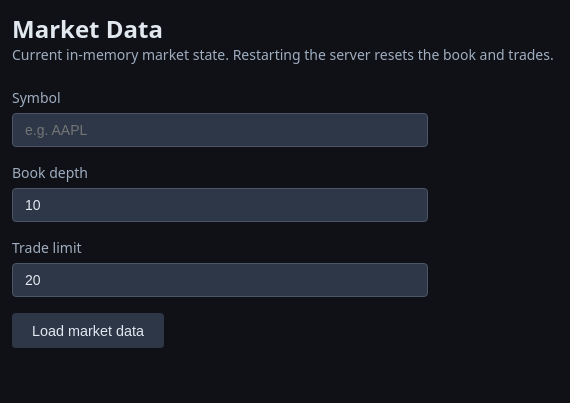
Scenario: MarketView – error state › shows generic message for non-ApiClientError throws
Type "AAPL" into the field labelled "Symbol" at (220, 130), box [12, 113, 428, 147]
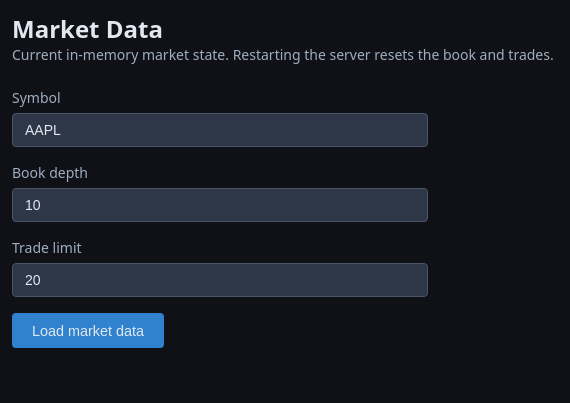
Click the button at (88, 331), box [12, 313, 164, 348]
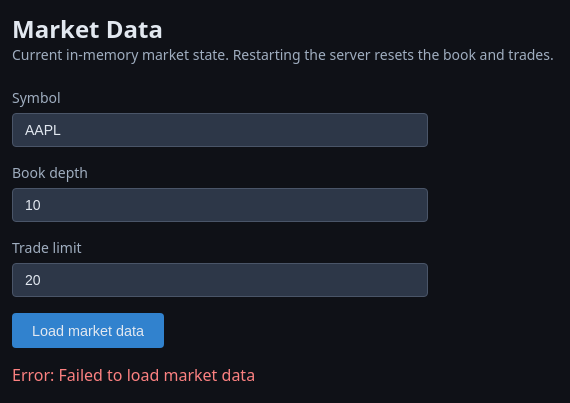
Result: the message shows "Failed to load market data" at [58, 364, 255, 386]
